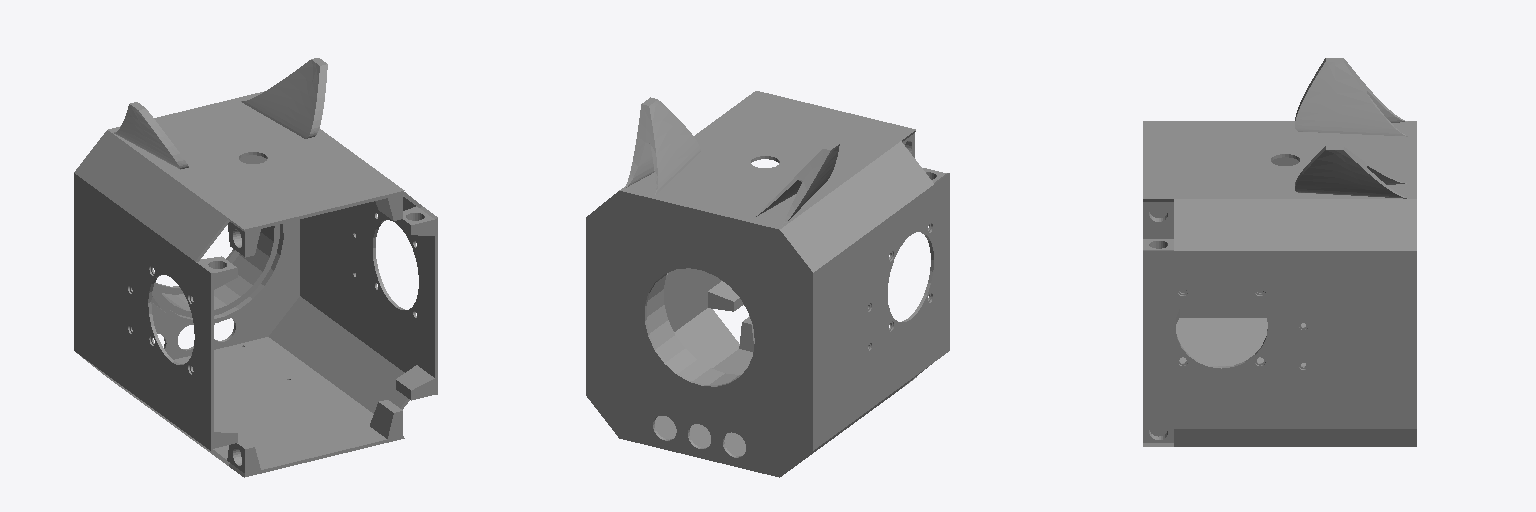
The model's file is 外壳v1.obj.
3 renders of one model, left to right at view 1: azimuth 30°, elevation 25°; view 2: azimuth 150°, elevation 25°; view 3: azimuth 270°, elevation 25°, orthographic.
Visible parts, largest first — view 1: 实体1; view 2: 实体1; view 3: 实体1.
Part boxes in pixels (left/top/right/bottom): 实体1: left=74, top=58, right=437, bottom=477; 实体1: left=586, top=91, right=949, bottom=477; 实体1: left=1143, top=58, right=1416, bottom=446.
Size of the model in its own units: 14.4 by 18.4 by 15.